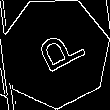P_SW: (25, 25, 85, 80)
